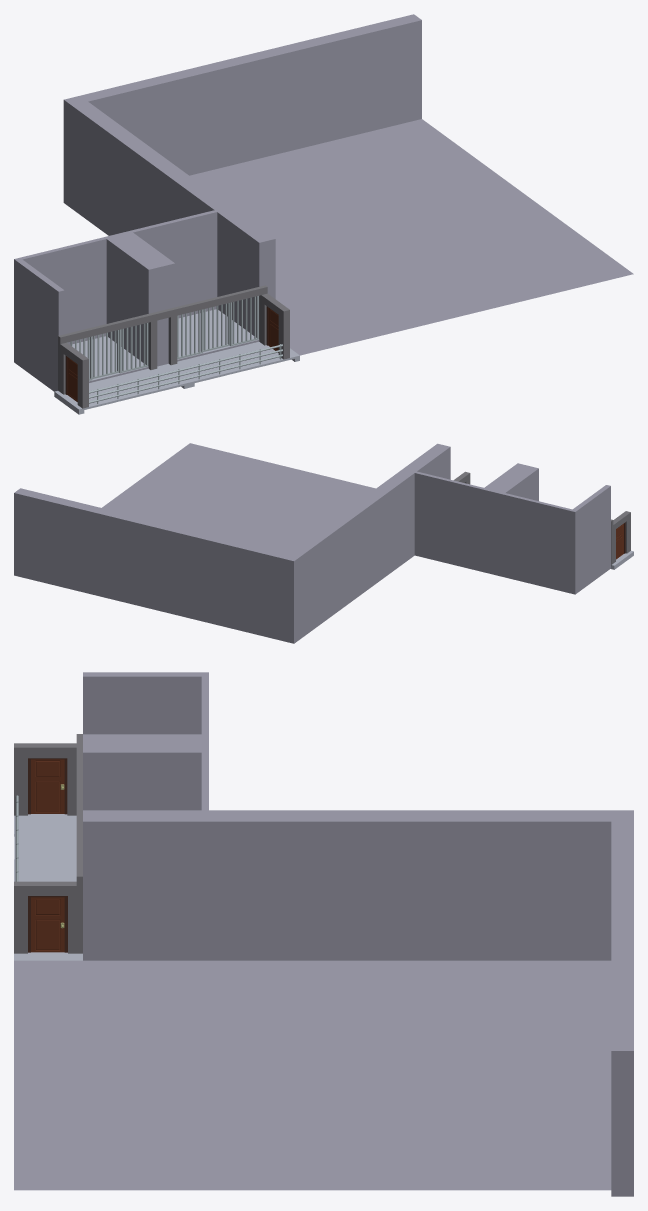
The model's file is Celdas.fbx.
3 views of the same model, one above another, from view 1: azimuth 30°, elevation 25°; view 2: azimuth 150°, elevation 25°; view 3: azimuth 270°, elevation 25° (orthographic). The views are drawn at different scales.
Visible parts, largest first — view 1: Plane; view 2: Plane; view 3: Plane.
Part boxes in pixels (x1,y1,x2,y2): Plane: (14, 14, 633, 414); Plane: (14, 443, 633, 643); Plane: (14, 672, 633, 1196).
Bounding box in the file's own units: 3012 × 539 × 2068.
